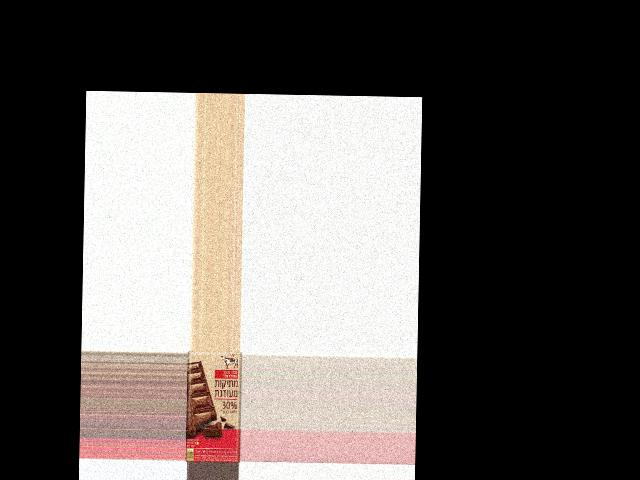chocolate: (185, 350, 242, 462)
